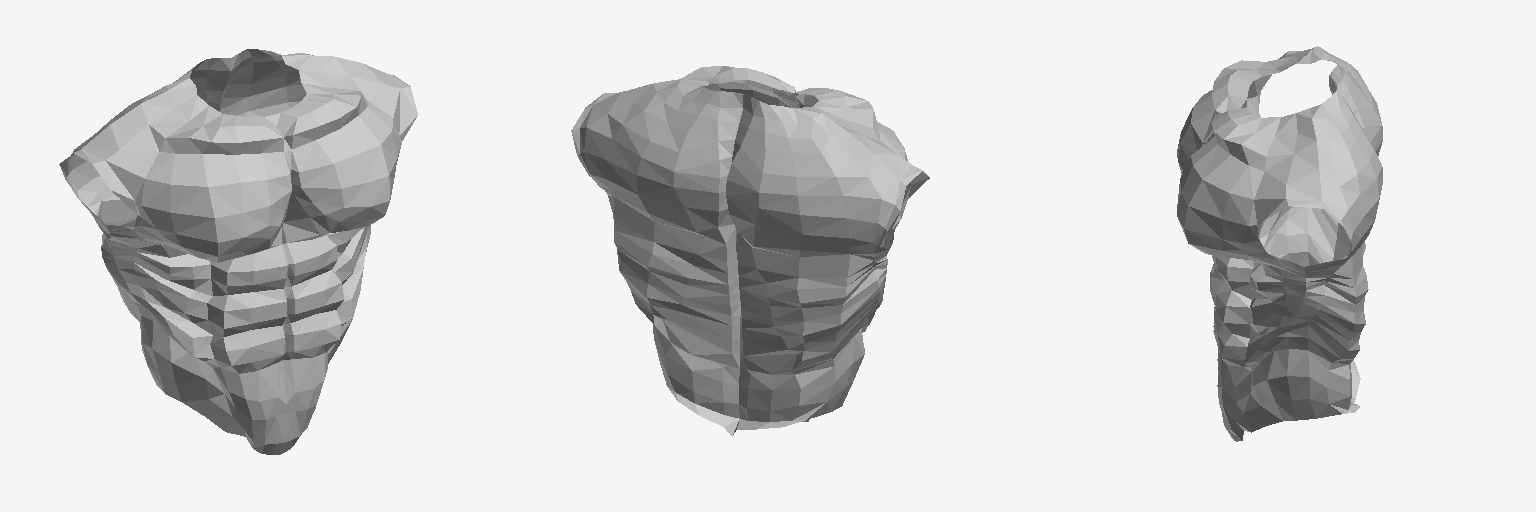
The model's file is Body_Upper.obj.
3 views of the same model, side by side, from view 1: azimuth 30°, elevation 25°; view 2: azimuth 150°, elevation 25°; view 3: azimuth 270°, elevation 25° (orthographic).
Parts seen in each view (by area): view 1: Body_Upper_Cube.033; view 2: Body_Upper_Cube.033; view 3: Body_Upper_Cube.033.
Part boxes in pixels (left/top/right/bottom): Body_Upper_Cube.033: left=59, top=49, right=417, bottom=454; Body_Upper_Cube.033: left=571, top=66, right=929, bottom=435; Body_Upper_Cube.033: left=1177, top=46, right=1382, bottom=441.
Bounding box in the file's own units: 12.52 × 13.16 × 6.81.